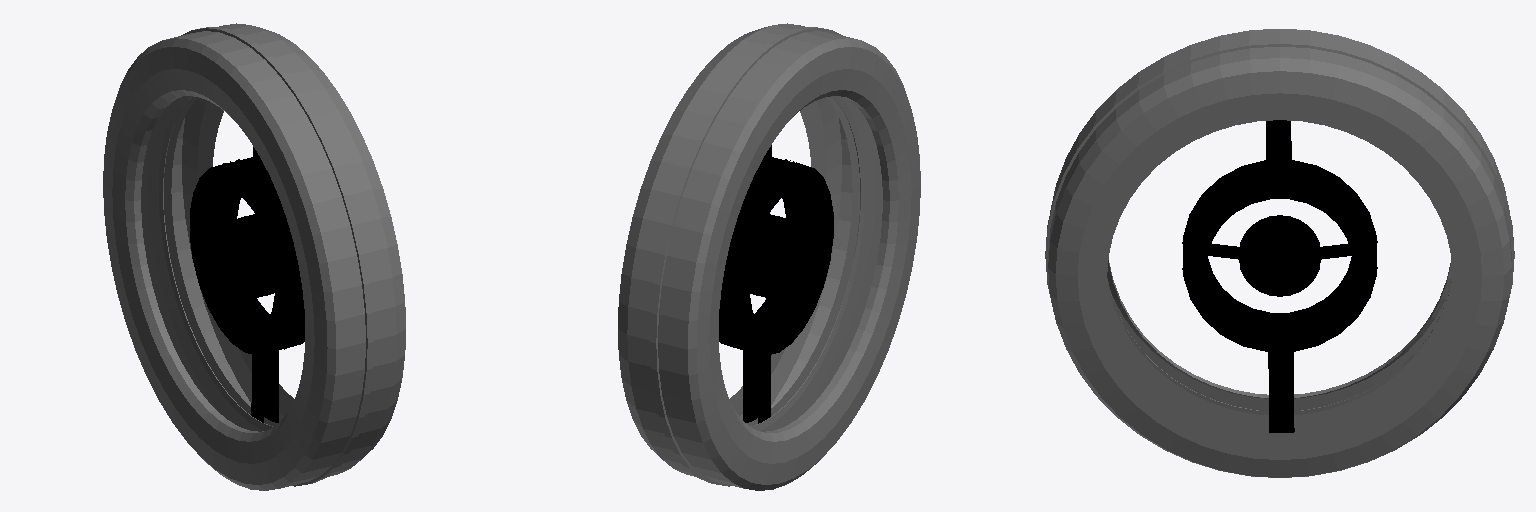
File: speedbike.obj
3 views of the same model, side by side, from view 1: azimuth 30°, elevation 25°; view 2: azimuth 150°, elevation 25°; view 3: azimuth 270°, elevation 25° (orthographic).
Visible parts, largest first — view 1: polySurface14, polySurface18; view 2: polySurface14, polySurface18; view 3: polySurface14, polySurface18.
Boxes of the visible parts, x1,y1,x2,y2 form: polySurface14: [103, 23, 405, 490]; polySurface18: [190, 147, 304, 422]; polySurface14: [618, 23, 920, 490]; polySurface18: [719, 145, 833, 423]; polySurface14: [1045, 29, 1514, 477]; polySurface18: [1182, 120, 1377, 432].
Size of the model in its own units: 0.4982 by 2.38 by 2.38.